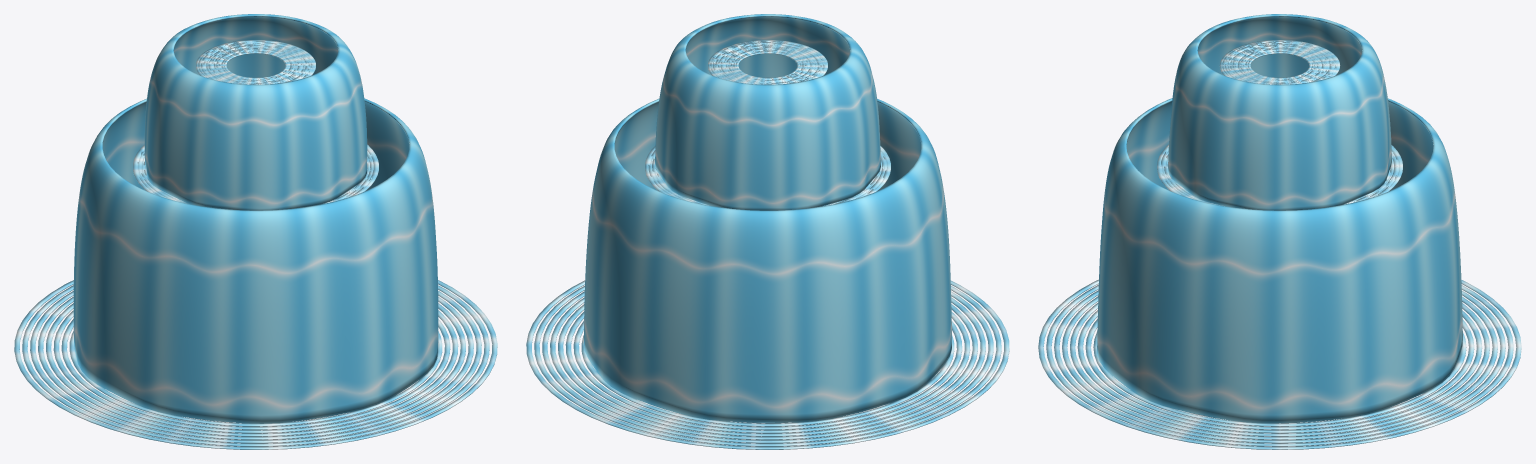
File: FountainWater.fbx
3 views of the same model, side by side, from view 1: azimuth 30°, elevation 25°; view 2: azimuth 150°, elevation 25°; view 3: azimuth 270°, elevation 25° (orthographic).
Parts seen in each view (by area): view 1: FW_Curtain2_1, FW_Curtain3_1, FW_Ripple1_12, FW_Ripple1_11, FW_Ripple1_10, FW_Ripple1_3, FW_Ripple1_2, FW_Ripple1_1, FW_Ripple3_10, FW_Ripple3_1, FW_Ripple3_11, FW_Ripple3_12 (+3 smaller); view 2: FW_Curtain2_1, FW_Curtain3_1, FW_Ripple1_12, FW_Ripple1_11, FW_Ripple1_10, FW_Ripple1_3, FW_Ripple1_2, FW_Ripple1_1, FW_Ripple3_10, FW_Ripple3_1, FW_Ripple3_11, FW_Ripple3_12 (+3 smaller); view 3: FW_Curtain2_1, FW_Curtain3_1, FW_Ripple1_12, FW_Ripple1_11, FW_Ripple1_10, FW_Ripple1_3, FW_Ripple1_2, FW_Ripple1_1, FW_Ripple3_10, FW_Ripple3_1, FW_Ripple3_11, FW_Ripple3_12 (+4 smaller).
Boxes of the visible parts, bbox=[...] form: FW_Curtain2_1: bbox=[73, 98, 438, 423]; FW_Curtain3_1: bbox=[144, 14, 367, 210]; FW_Ripple1_12: bbox=[14, 280, 497, 449]; FW_Ripple1_11: bbox=[22, 285, 489, 446]; FW_Ripple1_10: bbox=[30, 290, 481, 443]; FW_Ripple1_3: bbox=[38, 297, 473, 439]; FW_Ripple1_2: bbox=[46, 303, 465, 436]; FW_Ripple1_1: bbox=[53, 310, 458, 433]; FW_Ripple3_10: bbox=[200, 42, 310, 82]; FW_Ripple3_1: bbox=[208, 45, 303, 84]; FW_Ripple3_11: bbox=[198, 41, 313, 83]; FW_Ripple3_12: bbox=[196, 40, 315, 84]; FW_Curtain2_1: bbox=[584, 98, 951, 422]; FW_Curtain3_1: bbox=[655, 14, 880, 210]; FW_Ripple1_12: bbox=[526, 280, 1009, 449]; FW_Ripple1_11: bbox=[534, 286, 1001, 446]; FW_Ripple1_10: bbox=[542, 291, 993, 443]; FW_Ripple1_3: bbox=[550, 297, 985, 439]; FW_Ripple1_2: bbox=[558, 304, 977, 436]; FW_Ripple1_1: bbox=[565, 311, 970, 433]; FW_Ripple3_10: bbox=[713, 42, 822, 82]; FW_Ripple3_1: bbox=[720, 45, 815, 84]; FW_Ripple3_11: bbox=[710, 41, 825, 83]; FW_Ripple3_12: bbox=[708, 40, 827, 84]; FW_Curtain2_1: bbox=[1097, 98, 1462, 423]; FW_Curtain3_1: bbox=[1168, 14, 1391, 210]; FW_Ripple1_12: bbox=[1038, 279, 1521, 449]; FW_Ripple1_11: bbox=[1046, 285, 1513, 446]; FW_Ripple1_10: bbox=[1054, 290, 1505, 443]; FW_Ripple1_3: bbox=[1062, 296, 1497, 439]; FW_Ripple1_2: bbox=[1070, 303, 1489, 436]; FW_Ripple1_1: bbox=[1077, 310, 1482, 433]; FW_Ripple3_10: bbox=[1225, 42, 1334, 82]; FW_Ripple3_1: bbox=[1232, 45, 1327, 84]; FW_Ripple3_11: bbox=[1222, 41, 1337, 82]; FW_Ripple3_12: bbox=[1219, 40, 1340, 84].
Size of the model in its own units: 19.68 by 13.38 by 19.68.
1 material, 1 textured.
